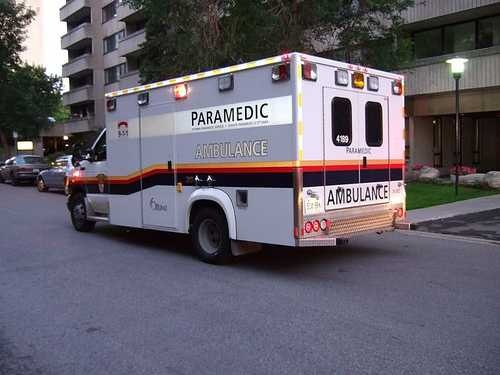Ambulance: (72, 59, 411, 257)
